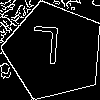L: (29, 26, 62, 74)
